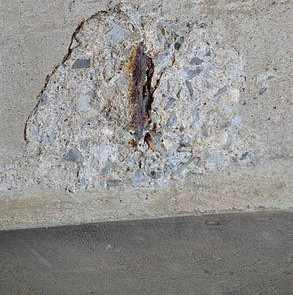Exposed reinforcement: (129, 47, 154, 147)
Spalling: (1, 1, 264, 193)
